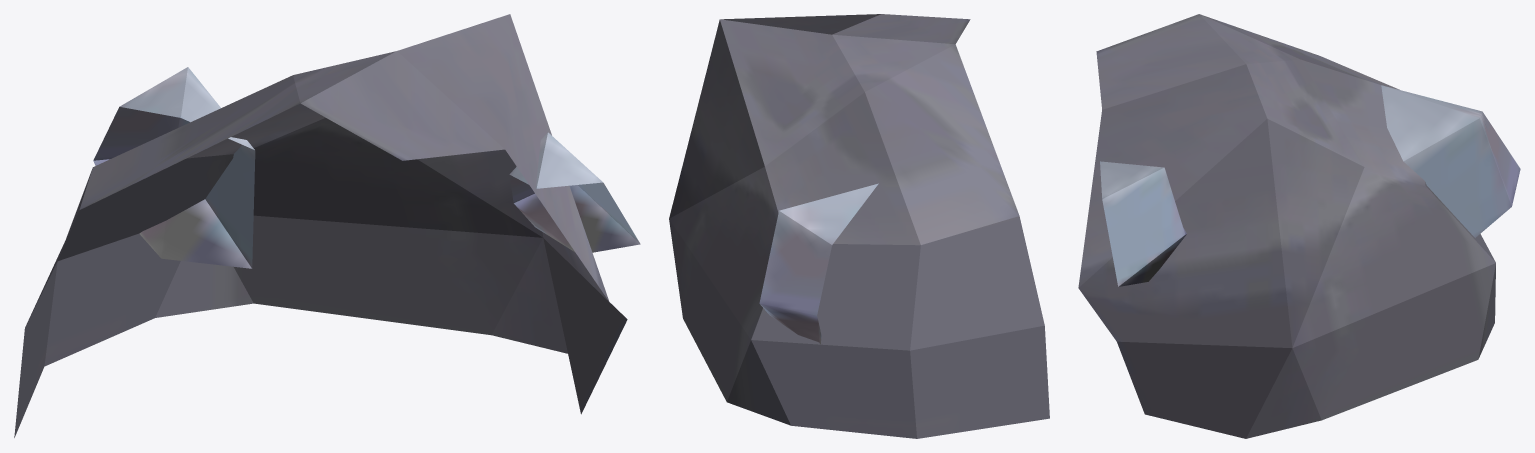
The model's file is RockSmallIron.fbx.
3 views of the same model, side by side, from view 1: azimuth 30°, elevation 25°; view 2: azimuth 150°, elevation 25°; view 3: azimuth 270°, elevation 25° (orthographic). The views are drawn at different scales.
Visible parts, largest first — view 1: RockMesh, Resource1, Resource2; view 2: RockMesh, Resource1; view 3: RockMesh, Resource1, Resource2.
Part boxes in pixels (left/top/right/bottom): RockMesh: left=14, top=14, right=627, bottom=437; Resource1: left=93, top=67, right=255, bottom=268; Resource2: left=509, top=132, right=640, bottom=252; RockMesh: left=669, top=14, right=1049, bottom=438; Resource1: left=759, top=183, right=878, bottom=344; RockMesh: left=1078, top=14, right=1495, bottom=438; Resource1: left=1381, top=85, right=1520, bottom=237; Resource2: left=1100, top=161, right=1186, bottom=286.
Size of what is drawn, in the model's own units: 1.06 by 0.7005 by 0.9403.
